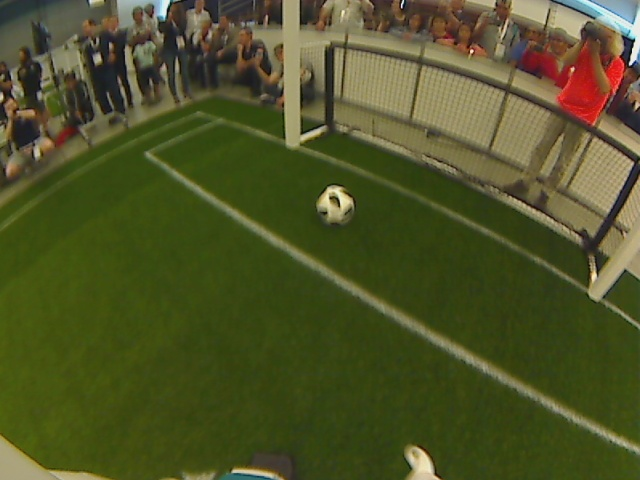ball: (315, 185, 354, 222)
